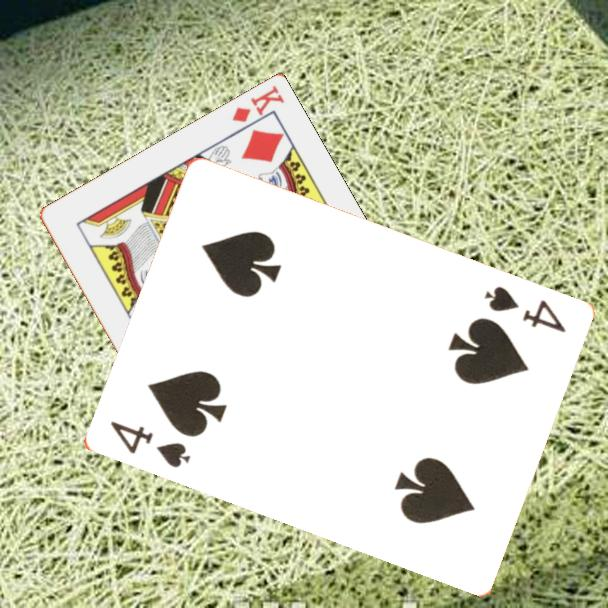d13: (228, 82, 287, 126)
s04: (479, 283, 568, 336), (106, 418, 193, 472)
